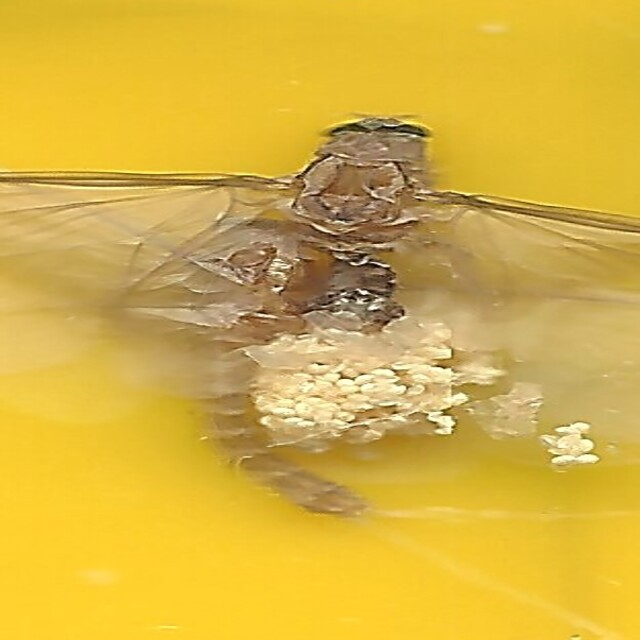Ephemeroptera: (205, 106, 435, 534)
